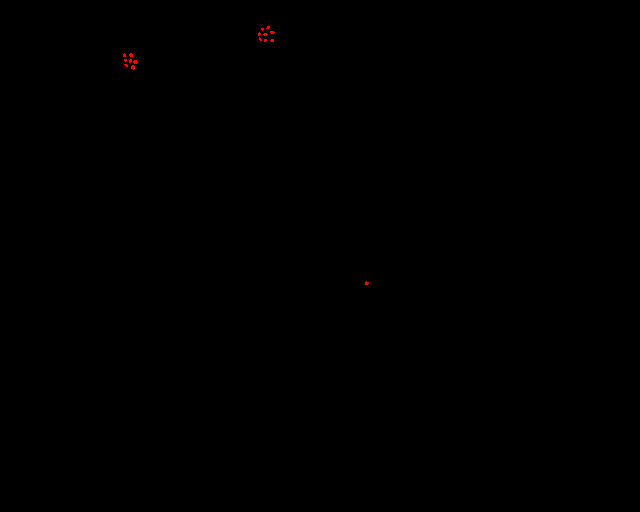Target: (133, 60, 138, 64), (131, 65, 135, 70), (129, 53, 133, 57), (365, 281, 369, 285), (270, 31, 275, 34), (263, 33, 268, 36), (266, 26, 270, 29), (258, 32, 261, 36), (259, 37, 262, 41), (270, 39, 274, 42), (123, 53, 126, 57), (129, 59, 132, 63), (124, 64, 128, 67), (261, 28, 264, 31), (264, 39, 267, 42), (124, 59, 127, 62)
